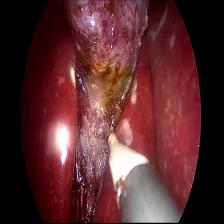Grasper: (100, 122, 152, 202)
